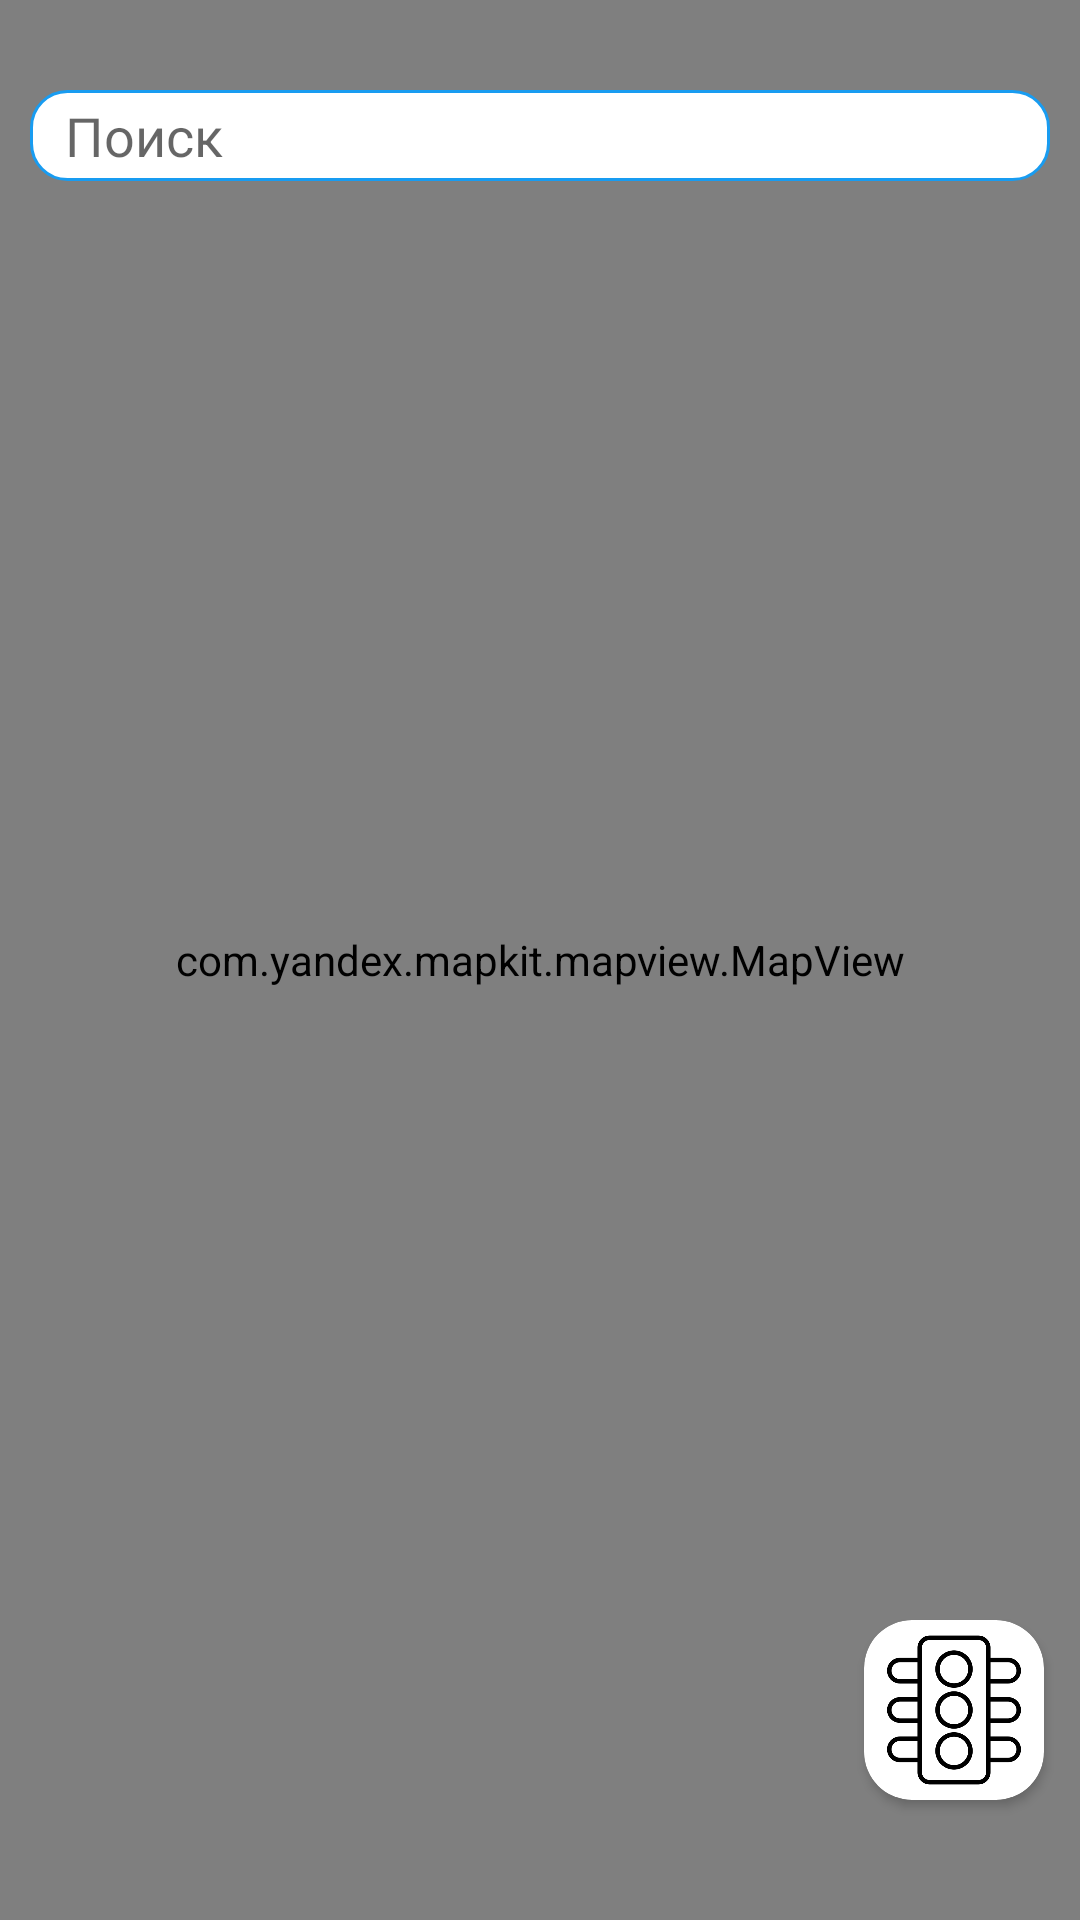

Where to tap for icons on this 1080*1920 app screen, as [x,y]:
trafficoff: [954,1710]
